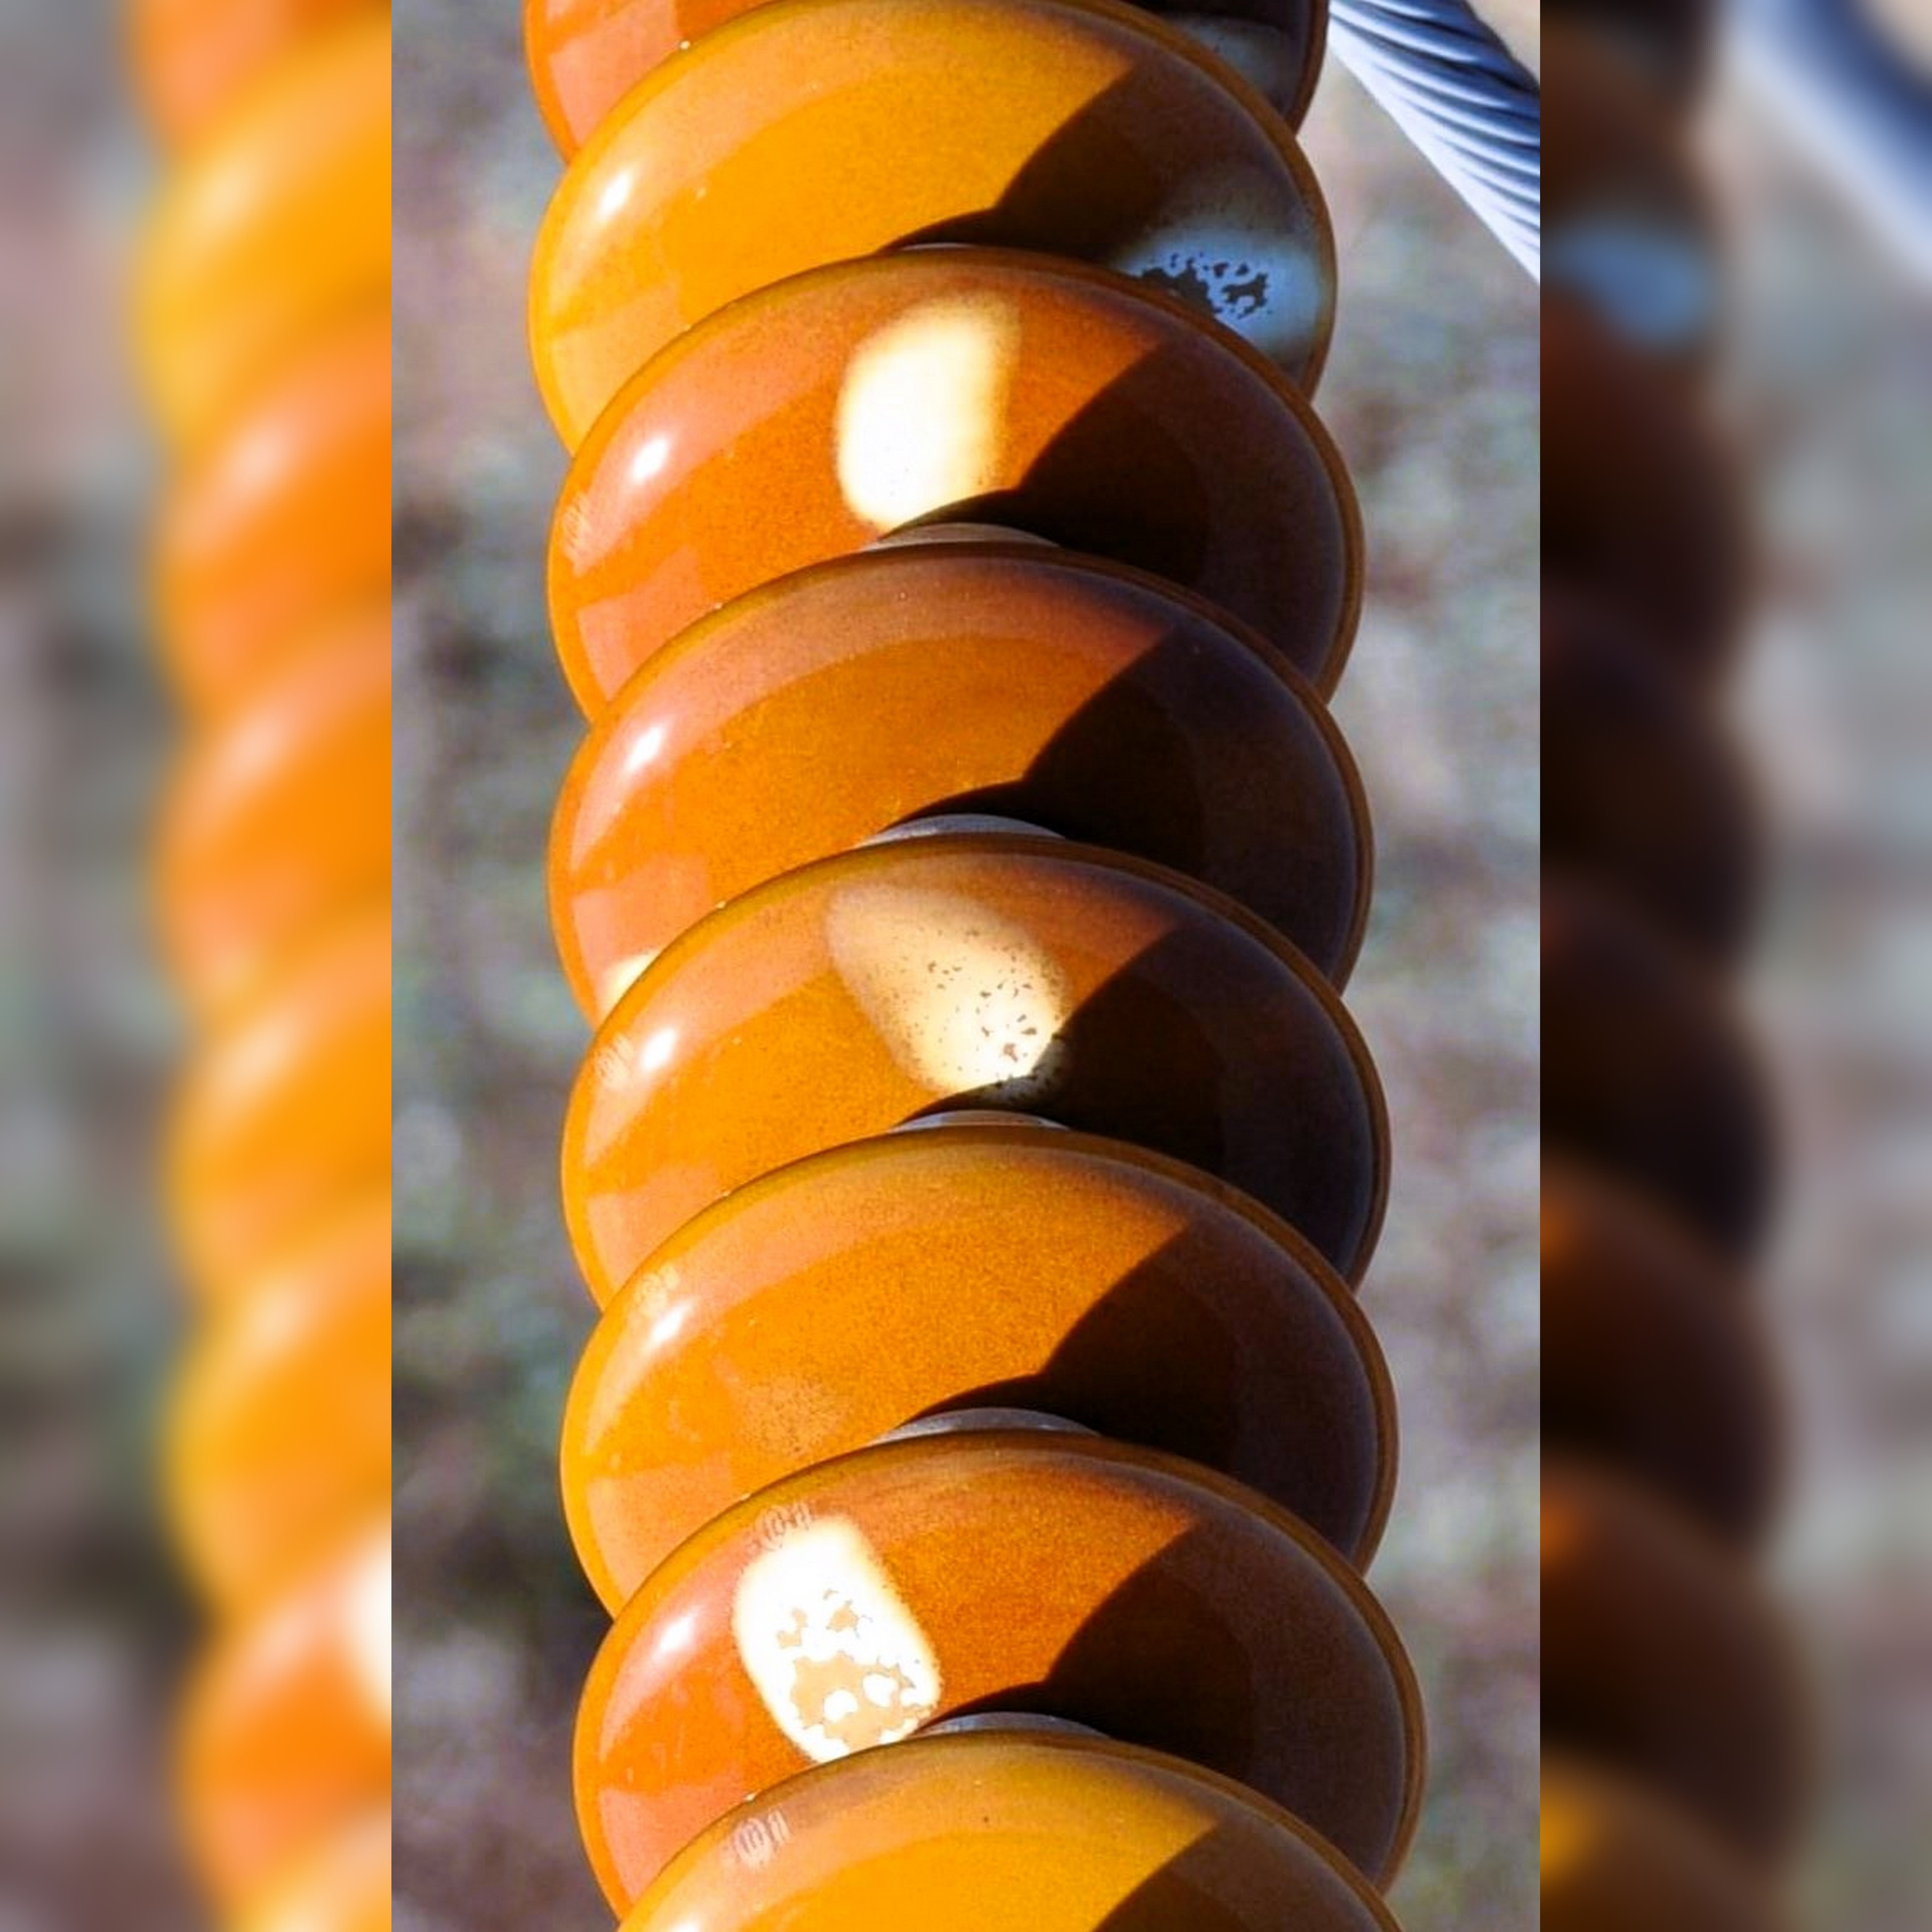Insulator flashover: (517, 251, 1399, 734), (501, 821, 1422, 1272), (536, 1424, 1442, 1851)
